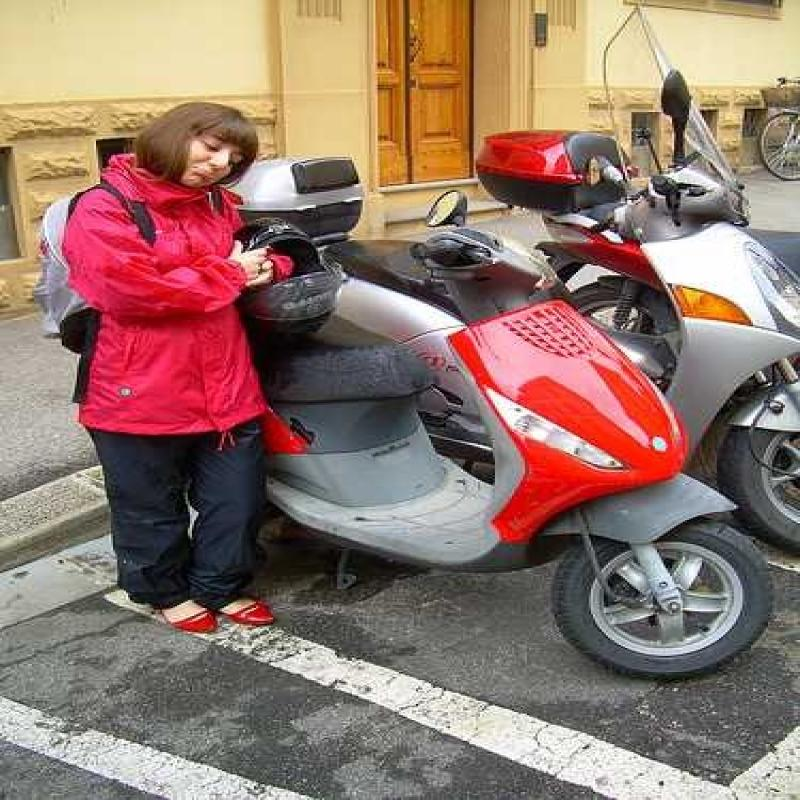bike: (302, 187, 756, 683), (555, 130, 800, 511)
